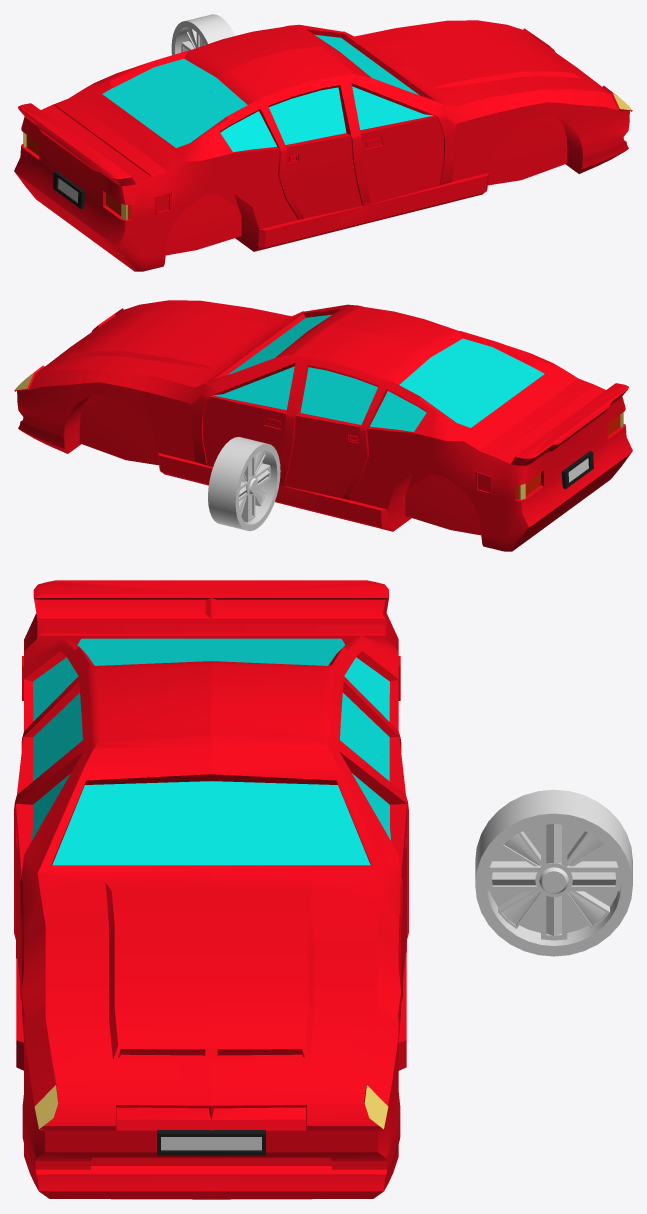
Rendered from caRRR_1.fbx.
3 views of the same model, one above another, from view 1: azimuth 30°, elevation 25°; view 2: azimuth 150°, elevation 25°; view 3: azimuth 270°, elevation 25° (orthographic). The views are drawn at different scales.
Parts seen in each view (by area): view 1: car, wheel_Cylinder; view 2: car, wheel_Cylinder; view 3: car, wheel_Cylinder.
Part boxes in pixels (x1,y1,x2,y2): car: (14, 20, 632, 271); wheel_Cylinder: (171, 14, 235, 55); car: (14, 300, 632, 551); wheel_Cylinder: (208, 437, 280, 531); car: (14, 580, 408, 1199); wheel_Cylinder: (475, 789, 632, 956).
Bounding box in the file's own units: 1048 × 289 × 611.
